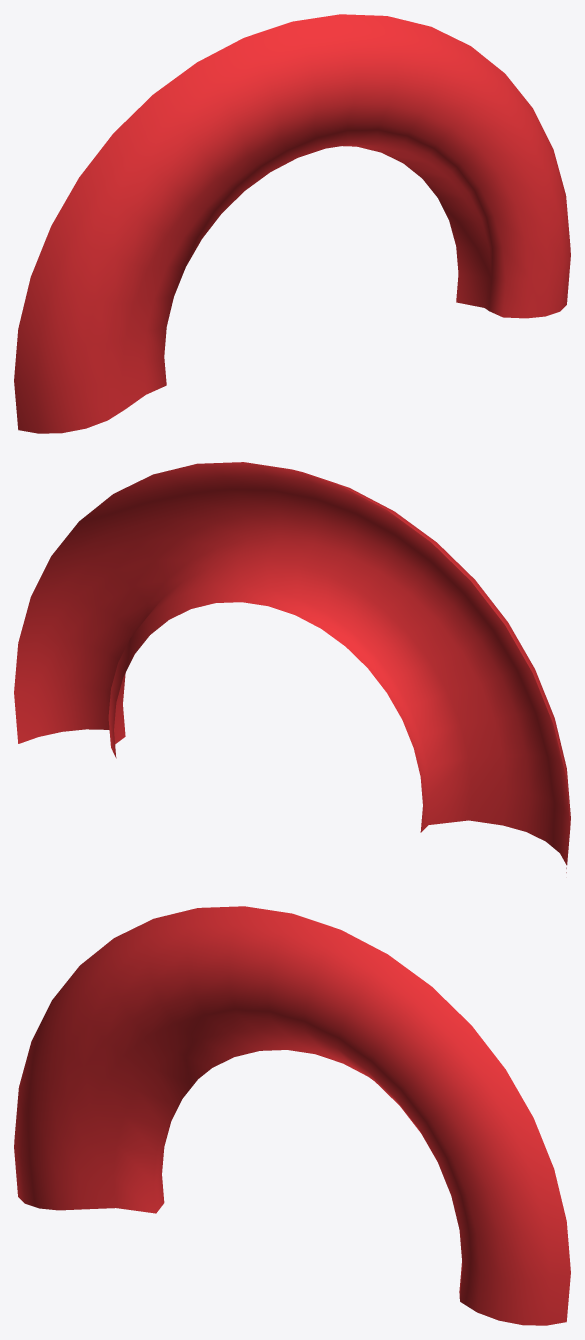
Rendered from arcoVermelho.fbx.
3 views of the same model, one above another, from view 1: azimuth 30°, elevation 25°; view 2: azimuth 150°, elevation 25°; view 3: azimuth 330°, elevation 25° (orthographic).
Parts seen in each view (by area): view 1: cinza; view 2: cinza; view 3: cinza.
Boxes of the visible parts, <box> form: cinza: <box>14,14,570,433</box>; cinza: <box>14,462,570,872</box>; cinza: <box>14,906,570,1325</box>.
Bounding box in the file's own units: 6.08 × 3.57 × 0.5824.
